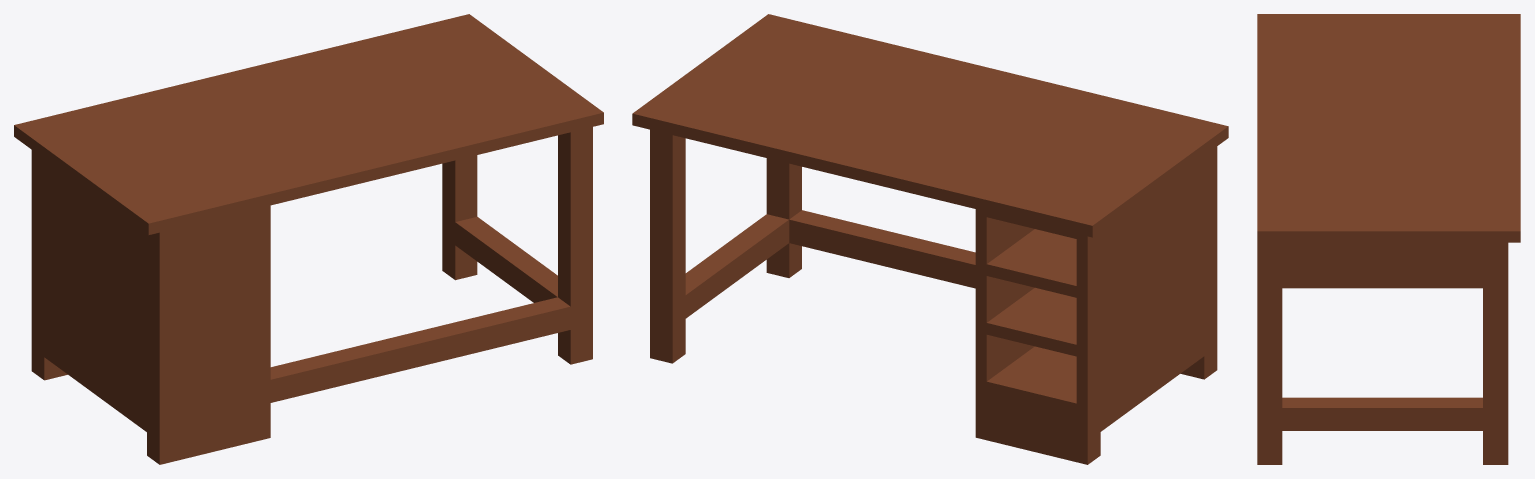
The model's file is desk.glb.
The picture shows the model from 3 angles, left to right: view 1: azimuth 30°, elevation 25°; view 2: azimuth 150°, elevation 25°; view 3: azimuth 270°, elevation 25°; orthographic projection. The views are drawn at different scales.
Parts seen in each view (by area): view 1: model; view 2: model; view 3: model.
Boxes of the visible parts, bbox=[...] form: model: bbox=[14, 14, 603, 464]; model: bbox=[632, 14, 1228, 464]; model: bbox=[1257, 14, 1520, 464].
Size of the model in its own units: 4.1 by 2.1 by 2.1.
